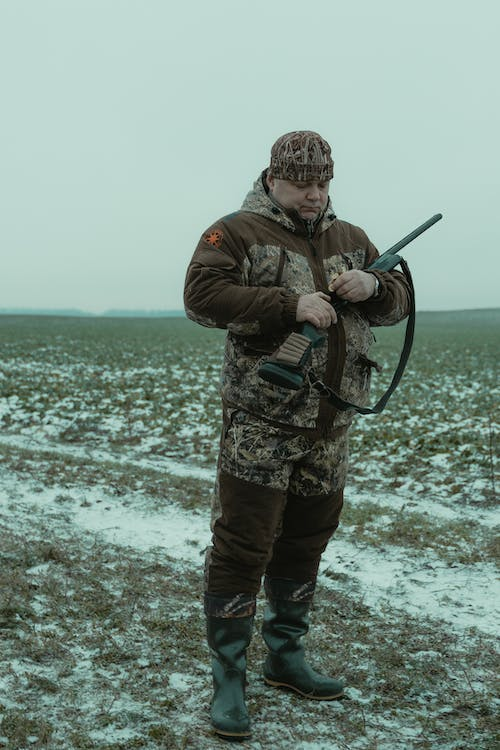gun: (255, 211, 444, 393)
